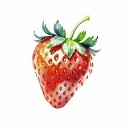strawberry: (31, 21, 99, 109)
